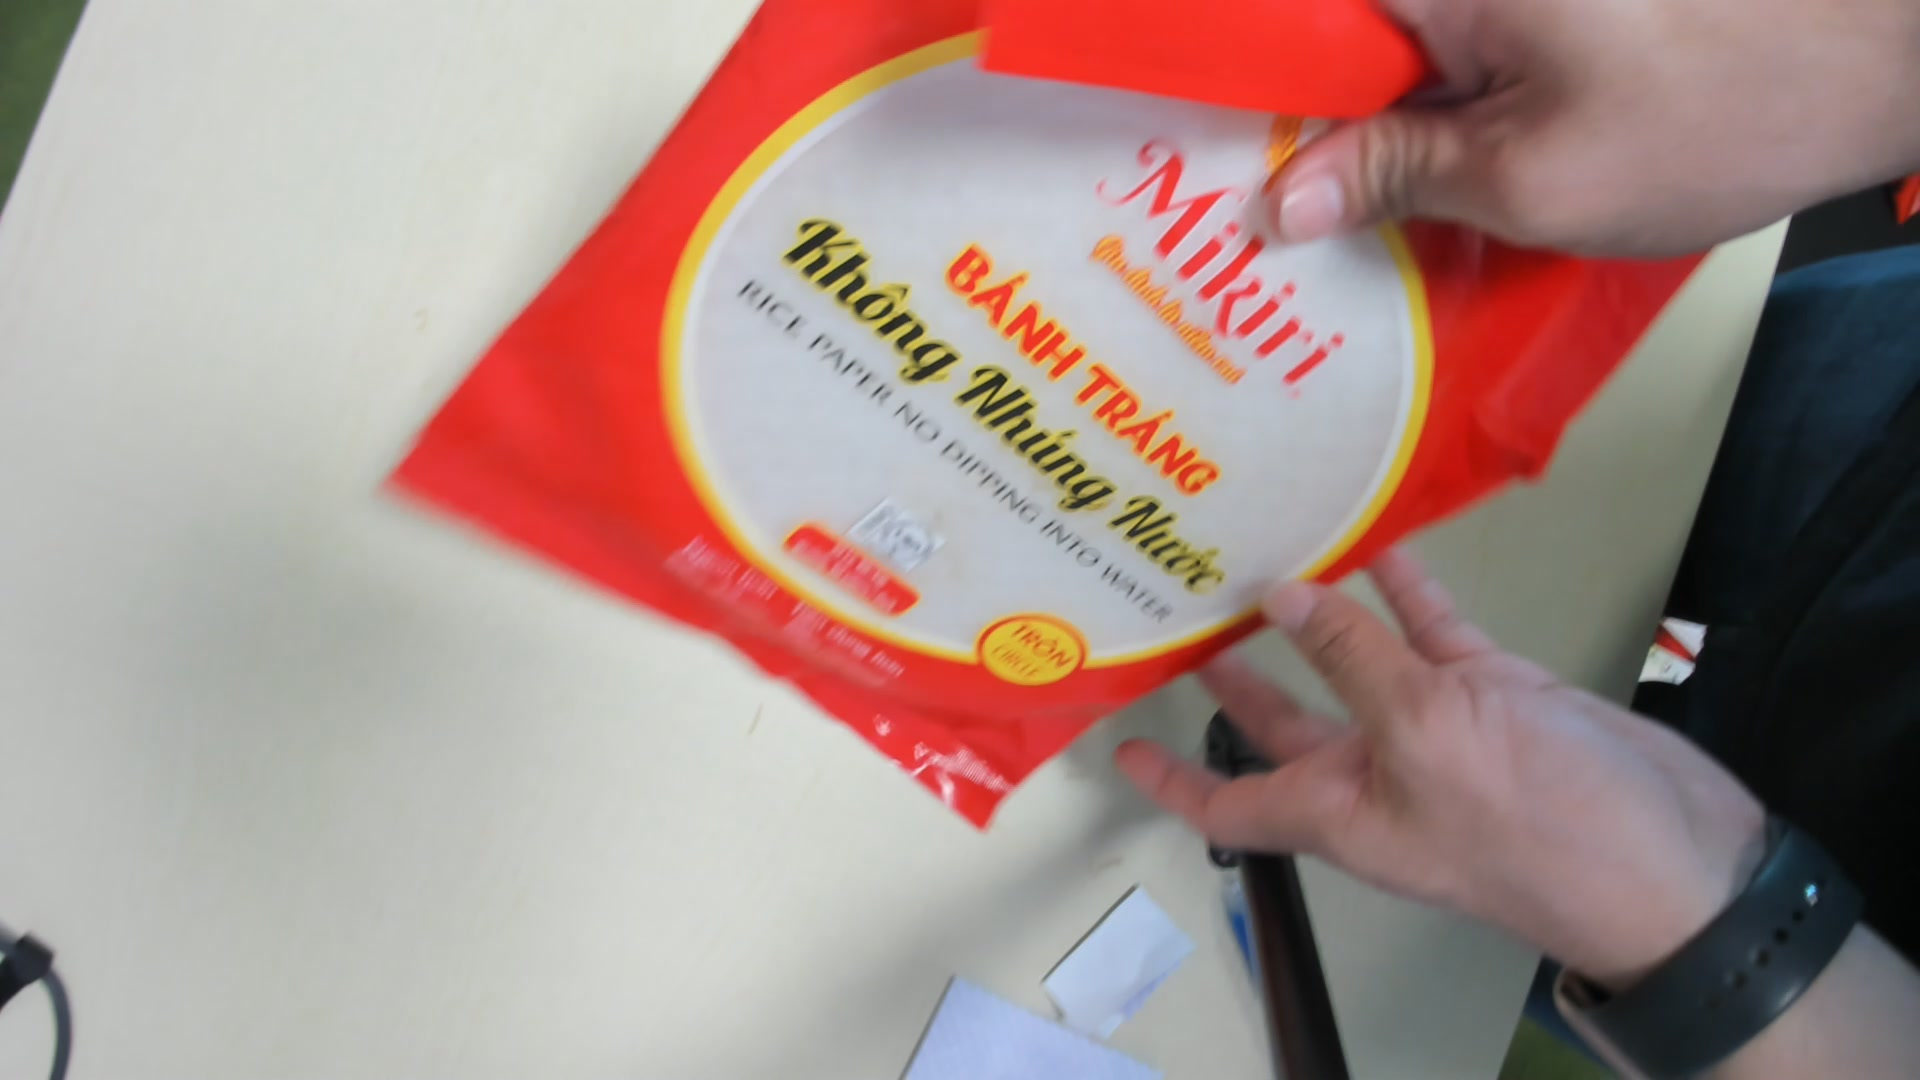InstantMeals_200_299g_NonHalal_NonHealthy: (393, 15, 1734, 818)
